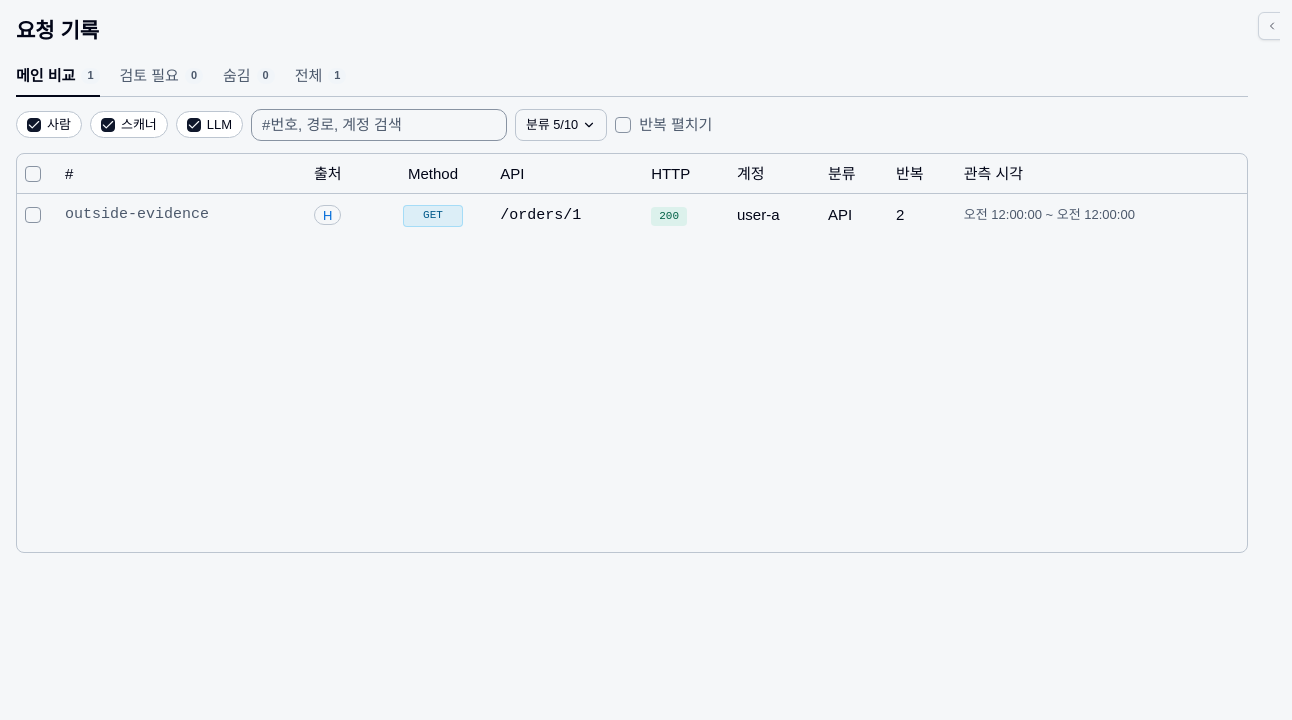
Scenario: EvidencePage › keeps the original table columns and dismisses details only from outside blank space
Expected: the column heading "#" is shown, [57,154,306,194]
Expected: the column heading "출처" is shown, [306,154,374,194]
Click the button with aria-label "상세 보기" at (541, 216), box [500,205,581,226]
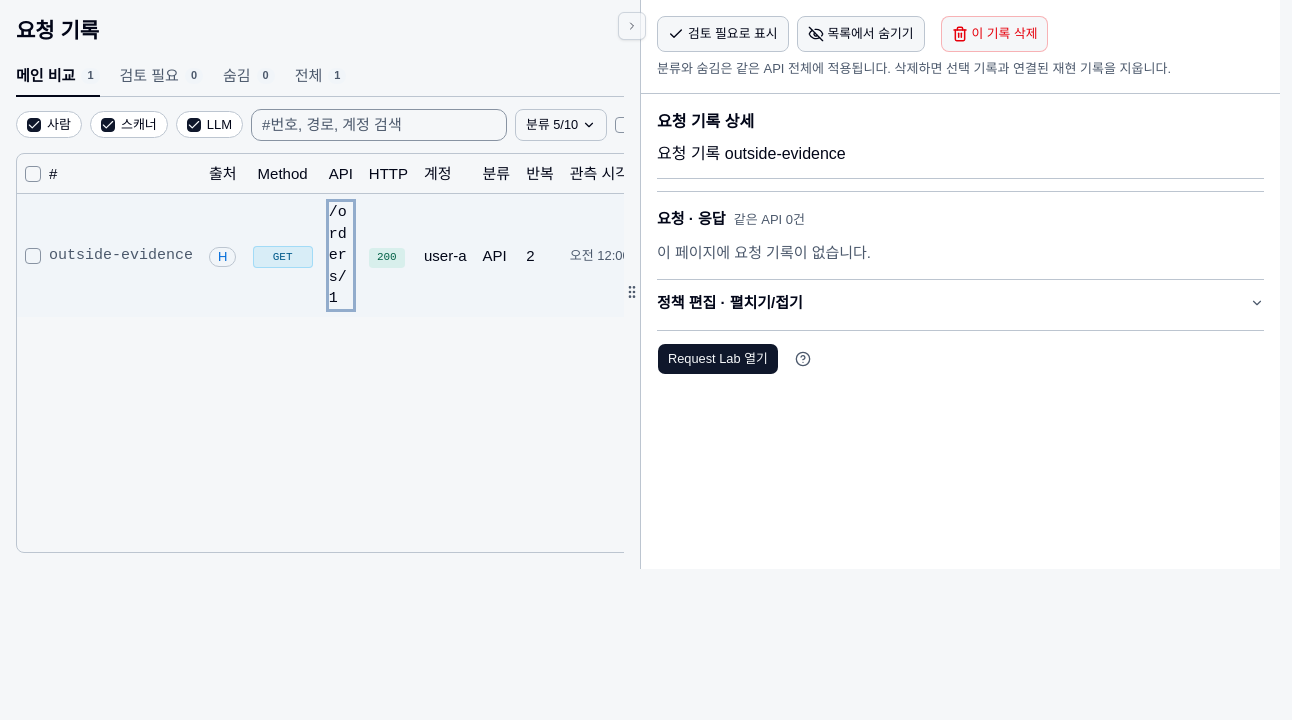
Press the mouse on the element "요청 기록 상세" at (960, 145), box [657,110,1264,179]
Expected: the text "요청 기록 outside-evidence" is shown, [657,145,846,162]
Press the mouse on the heading "요청 기록" at (58, 31), box [16,16,99,45]
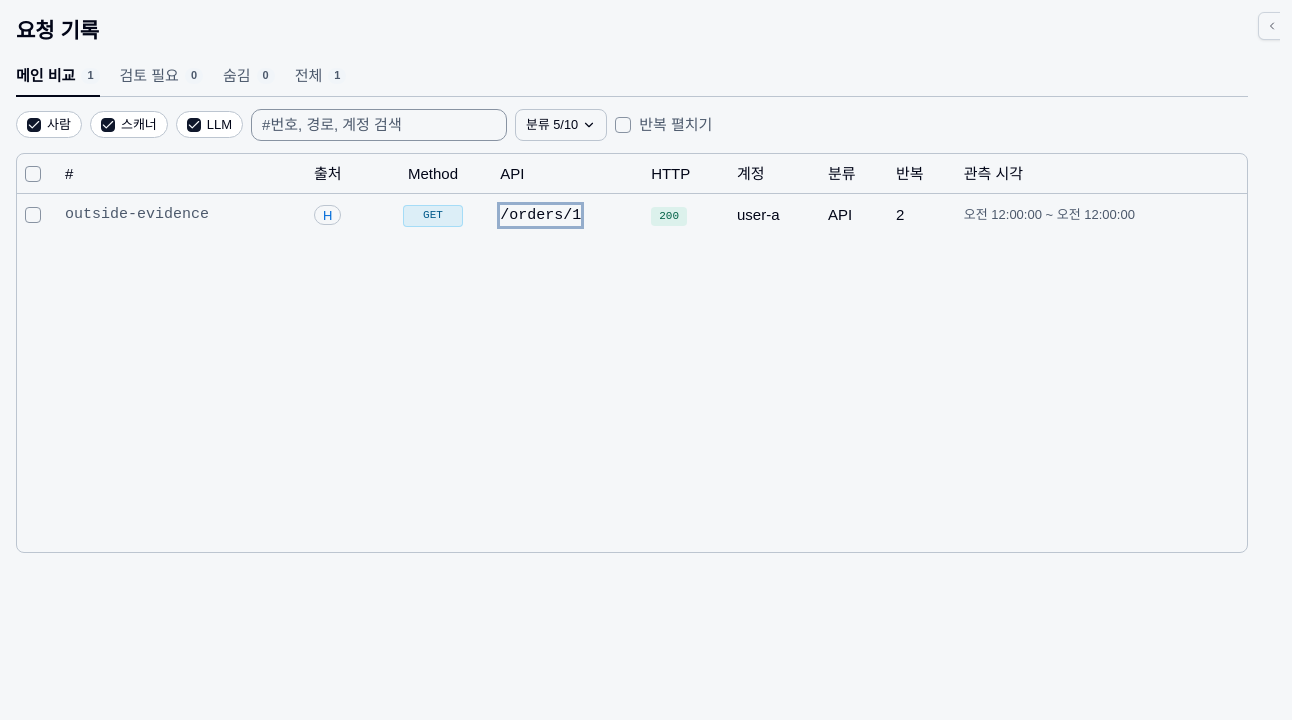
Expected: the text "요청 기록 outside-evidence" is gone
Click the button with aria-label "상세 보기" at (541, 216), box [500,205,581,226]
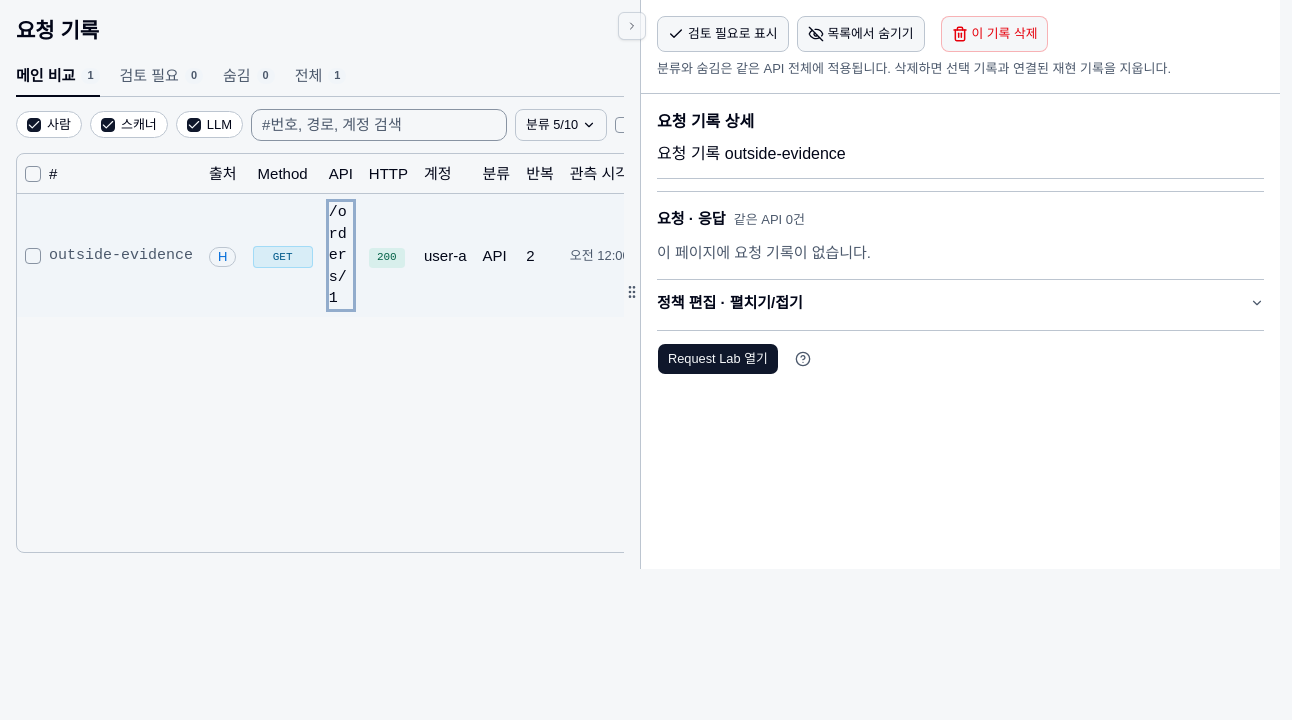
Expected: the text "요청 기록 outside-evidence" is shown, [657,145,846,162]
